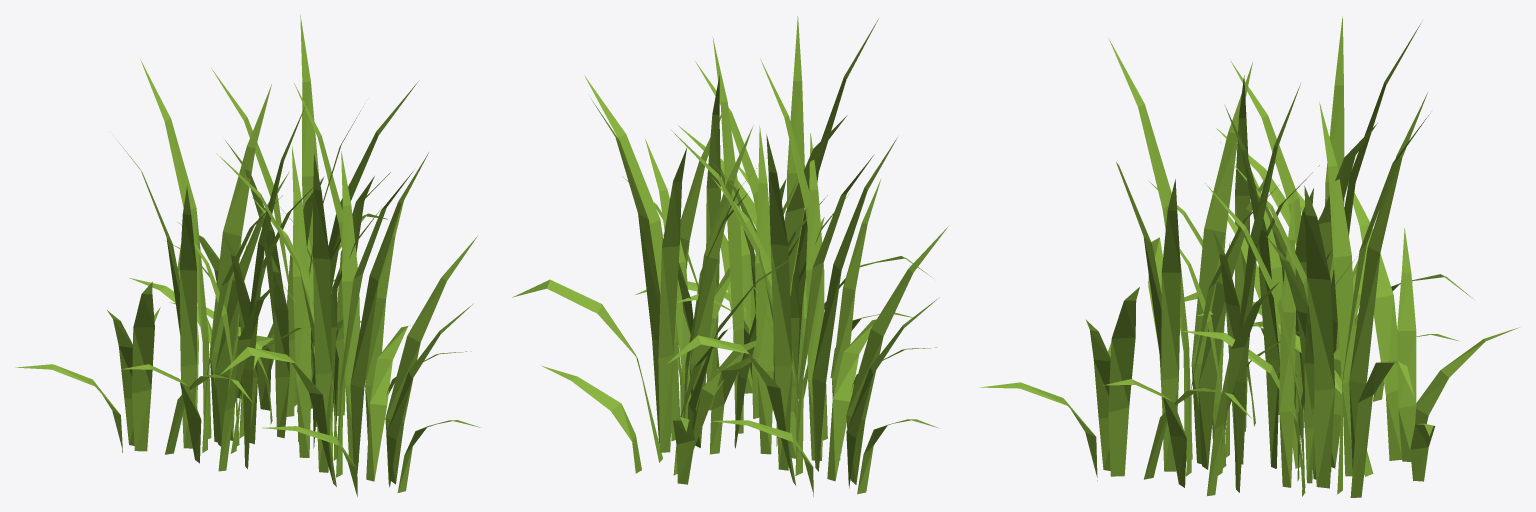
Rendered from grass-middle-b.fbx.
The picture shows the model from 3 angles, left to right: view 1: azimuth 30°, elevation 25°; view 2: azimuth 150°, elevation 25°; view 3: azimuth 270°, elevation 25°; orthographic projection. The views are drawn at different scales.
Parts seen in each view (by area): view 1: grass-middle-b; view 2: grass-middle-b; view 3: grass-middle-b.
Part boxes in pixels (bbox=[...]): grass-middle-b: bbox=[15, 15, 480, 496]; grass-middle-b: bbox=[512, 16, 948, 496]; grass-middle-b: bbox=[979, 16, 1519, 497].
Bounding box in the file's own units: 0.9796 × 0.8728 × 1.05.
